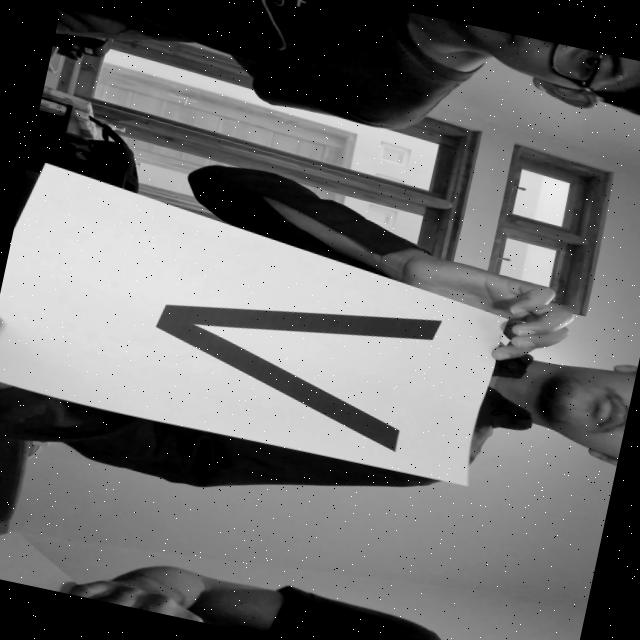v: (106, 240, 470, 483)
